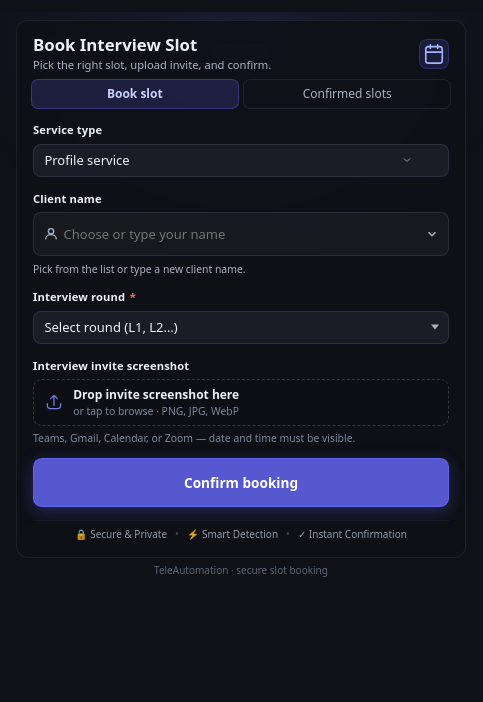
an empty form reports the first field, not the browser's choice › moves to the phone only once the name is filled
Click the button "Profile service": x=87, y=160 [33,144,449,177]
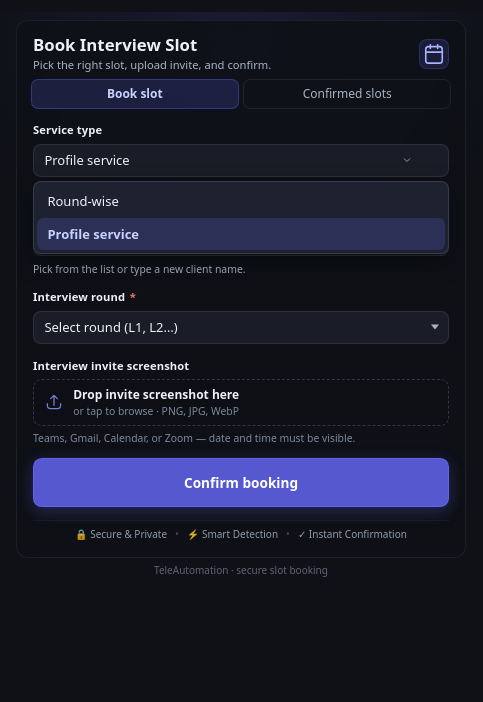
Click the list item "Round-wise": x=83, y=201 [47,192,119,210]
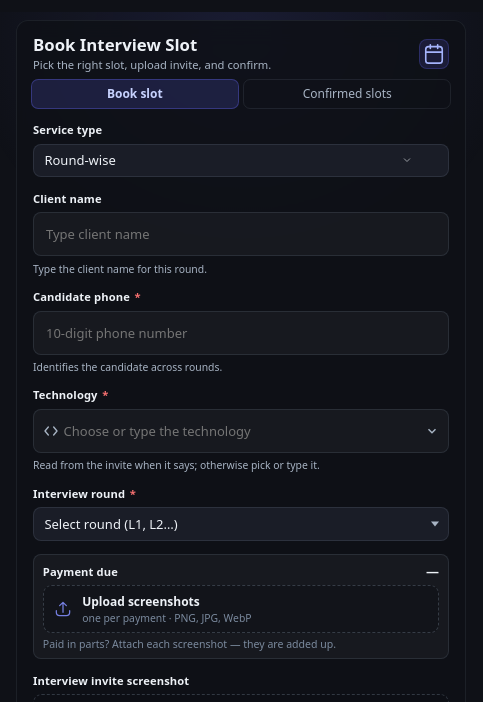
In the field with placeholder "Type client name": x=241, y=234 [33,212,449,256], type "Code Trust"
(page scrolled)
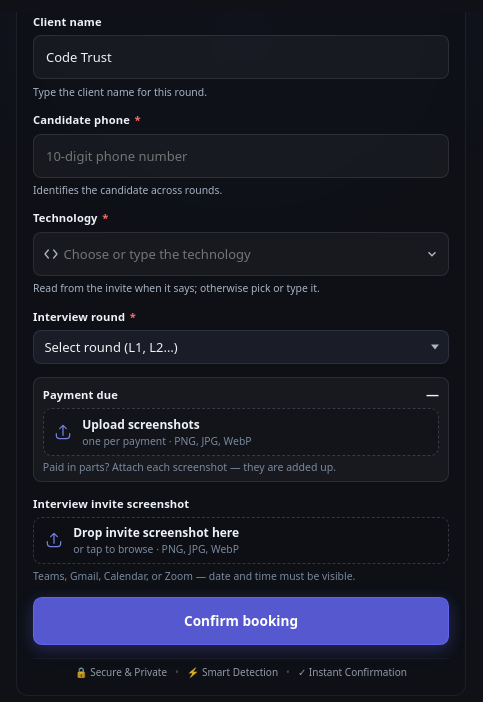
Click the button "Confirm booking": x=241, y=621 [33,597,449,645]
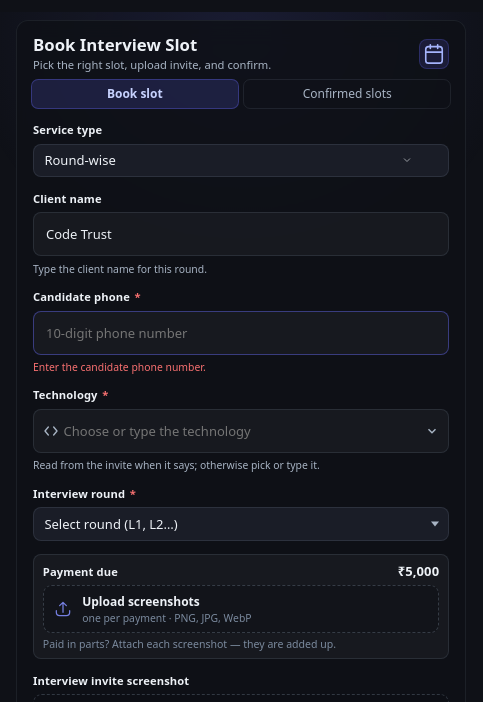
Expected: the text "Enter the candidate phone number." is shown, [33,360,206,374]
